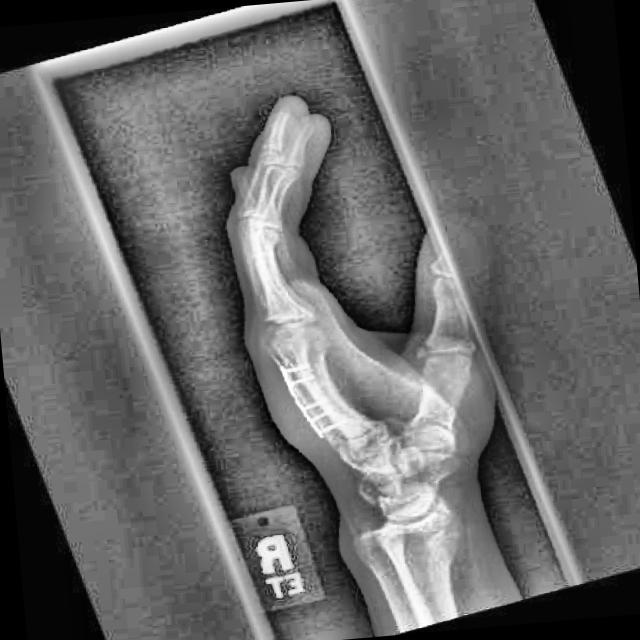fingers positive: (406, 334, 452, 376)
